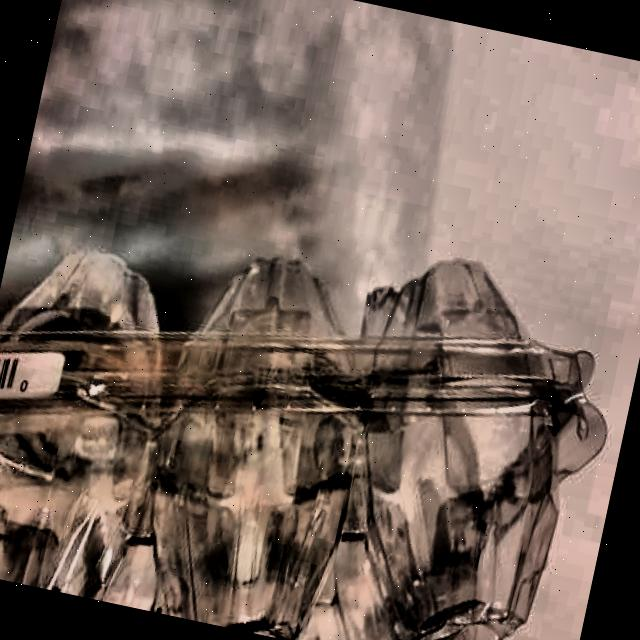plastic: (0, 166, 627, 640)
